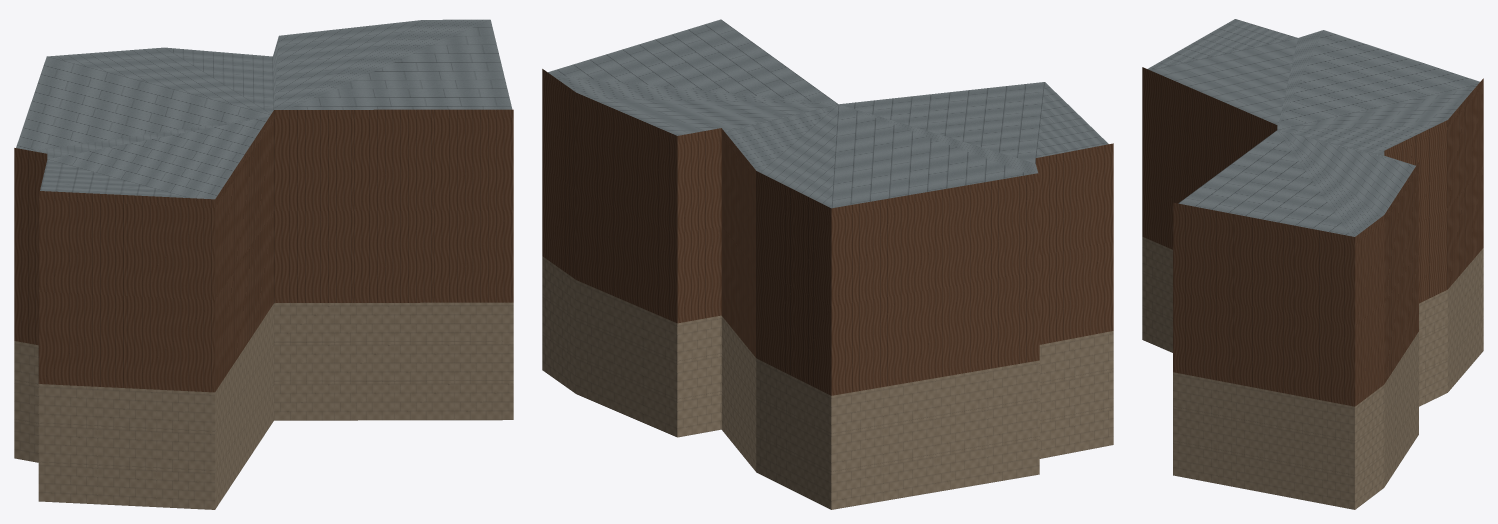
Rendered from bld_c31_-24_541.gltf.
3 renders of one model, left to right at view 1: azimuth 30°, elevation 25°; view 2: azimuth 150°, elevation 25°; view 3: azimuth 270°, elevation 25°, orthographic. The views are drawn at different scales.
Visible parts, largest first — view 1: bld_c31_-24_541; view 2: bld_c31_-24_541; view 3: bld_c31_-24_541.
Part boxes in pixels (bbox=[...]): bld_c31_-24_541: bbox=[14, 19, 513, 509]; bld_c31_-24_541: bbox=[542, 19, 1113, 509]; bld_c31_-24_541: bbox=[1142, 19, 1483, 509].
Bounding box in the file's own units: 23.63 × 13.48 × 15.27.
Materials: 4 (4 with a texture image).
